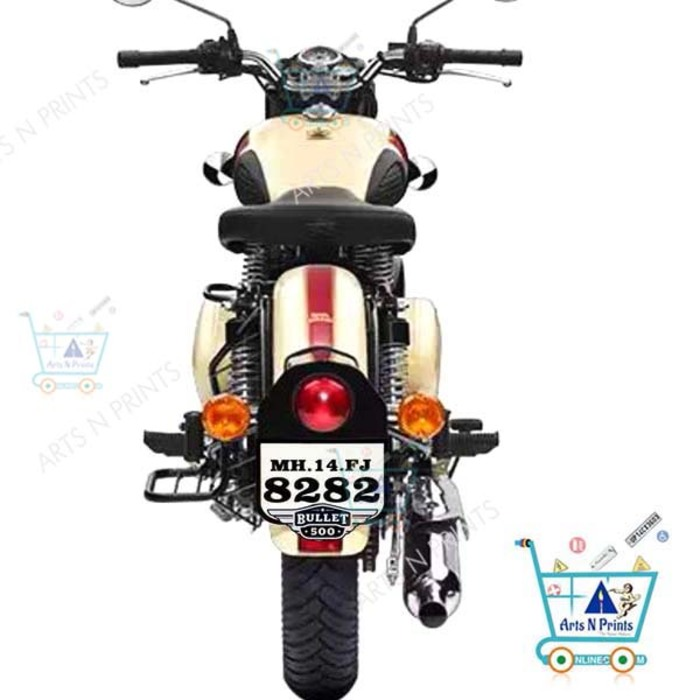n: (256, 438, 392, 516)
